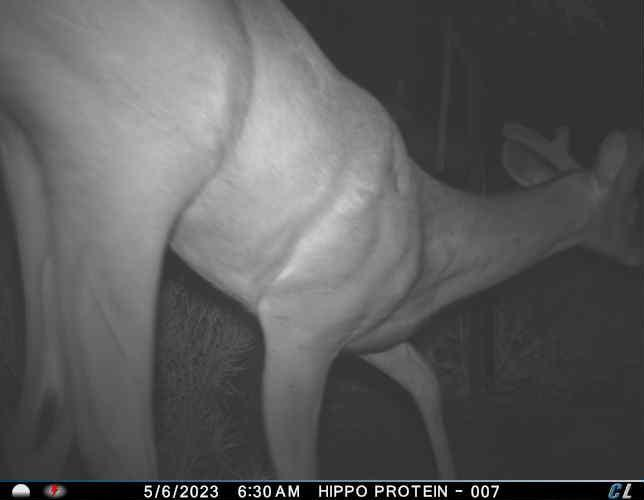Deer: (0, 0, 644, 480)
